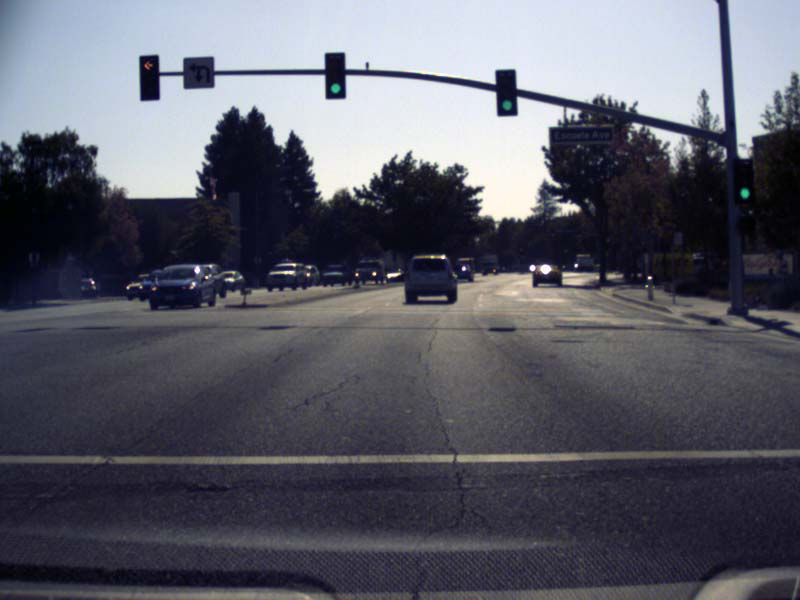Green: (325, 52, 345, 99), (496, 69, 516, 115), (733, 158, 752, 204)
Red: (139, 56, 158, 100)
